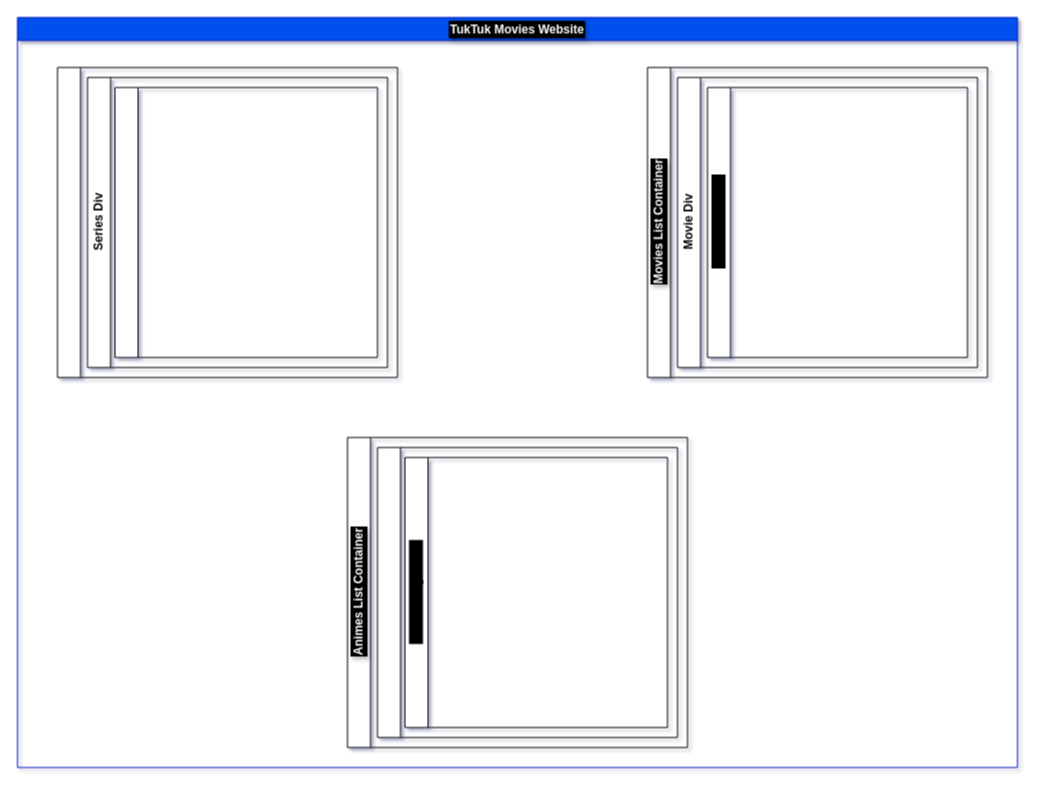
Image size: 1041x791. Some labels were removed from this diagram. The shapes that lost their labels are listed below. From the top down, each one's box as (x1, y1, x2, y2) in pixels, then its label:
(56, 66, 398, 378): Series List Container
(114, 86, 378, 358): Series Page Link
(376, 446, 678, 738): Anime Div
